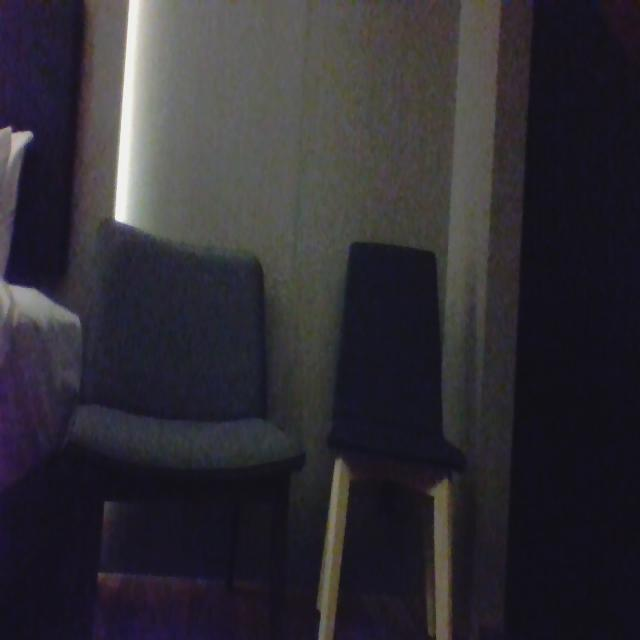empty: (92, 219, 280, 456), (340, 223, 459, 477)
